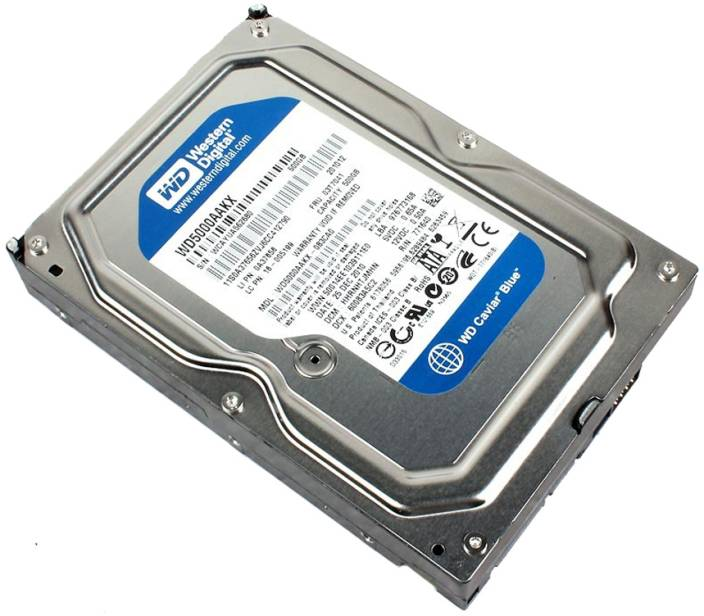2.5" Hard Drive: (2, 1, 703, 615)
